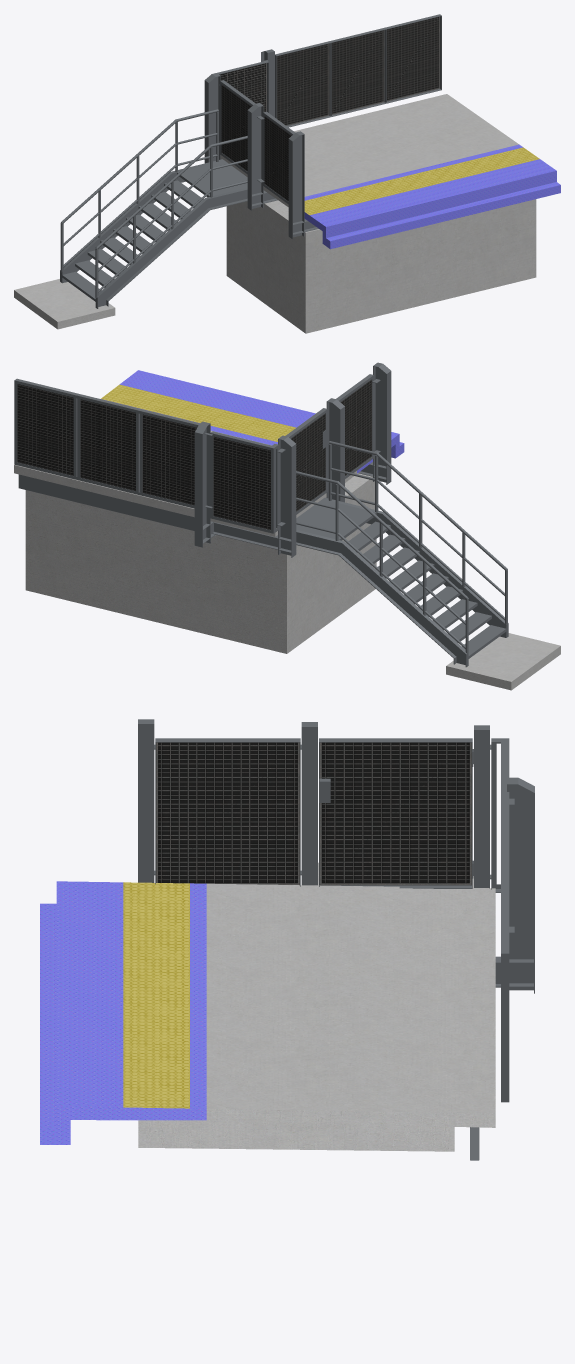
The model's file is Platform-B.fbx.
3 views of the same model, one above another, from view 1: azimuth 30°, elevation 25°; view 2: azimuth 150°, elevation 25°; view 3: azimuth 270°, elevation 25° (orthographic). The views are drawn at different scales.
Visible parts, largest first — view 1: Platform-B; view 2: Platform-B; view 3: Platform-B.
Part boxes in pixels (x1,y1,x2,y2): Platform-B: [14, 14, 560, 333]; Platform-B: [14, 362, 560, 690]; Platform-B: [40, 719, 534, 1160].
Bounding box in the file's own units: 9.07 × 3.98 × 4.46.
